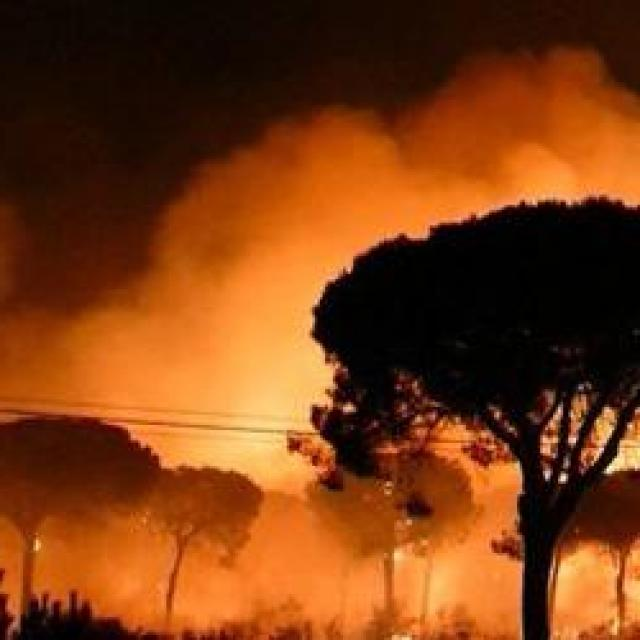smoke: (108, 95, 417, 341), (393, 46, 637, 198)
